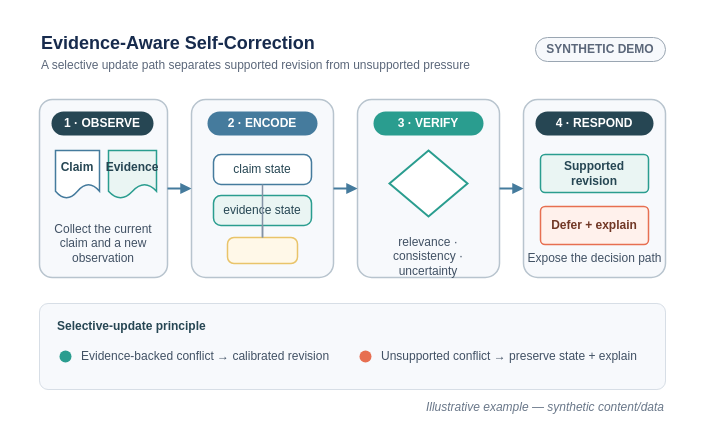
Image size: 704x444. Some labels were removed from this diagram. The shapes that lost their labels are listed below. From the top down, each one's centre as x and y in pixels, then its label:
[428,183]: Support?
[262,250]: conflict Δ
